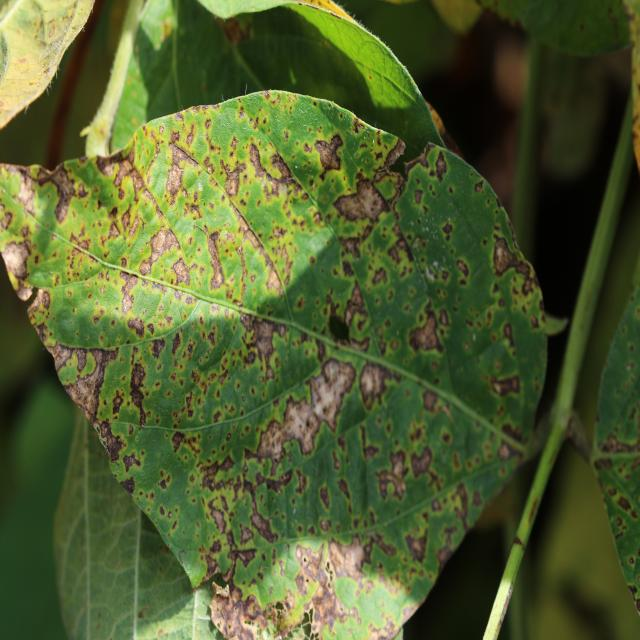Bacterial_Blight: (58, 348, 115, 424), (311, 355, 358, 429), (245, 140, 296, 205), (209, 586, 265, 640), (328, 281, 373, 347), (334, 176, 390, 224), (42, 164, 81, 226), (329, 540, 372, 594), (373, 446, 410, 501), (291, 541, 327, 592), (0, 238, 33, 290), (409, 309, 443, 355), (253, 419, 288, 463), (148, 227, 182, 268), (253, 317, 281, 361), (492, 236, 522, 277), (200, 456, 236, 490), (313, 133, 343, 171), (205, 236, 226, 290), (217, 14, 253, 44), (249, 507, 278, 543), (379, 135, 406, 170), (598, 432, 638, 455), (15, 171, 36, 212), (404, 529, 428, 562), (490, 372, 521, 397), (165, 165, 183, 198), (209, 504, 227, 534), (223, 168, 240, 197), (434, 151, 448, 181), (127, 316, 145, 337), (616, 494, 635, 513), (119, 476, 136, 497), (149, 337, 165, 359), (441, 221, 454, 240)
Soybean: (0, 8, 562, 640)
